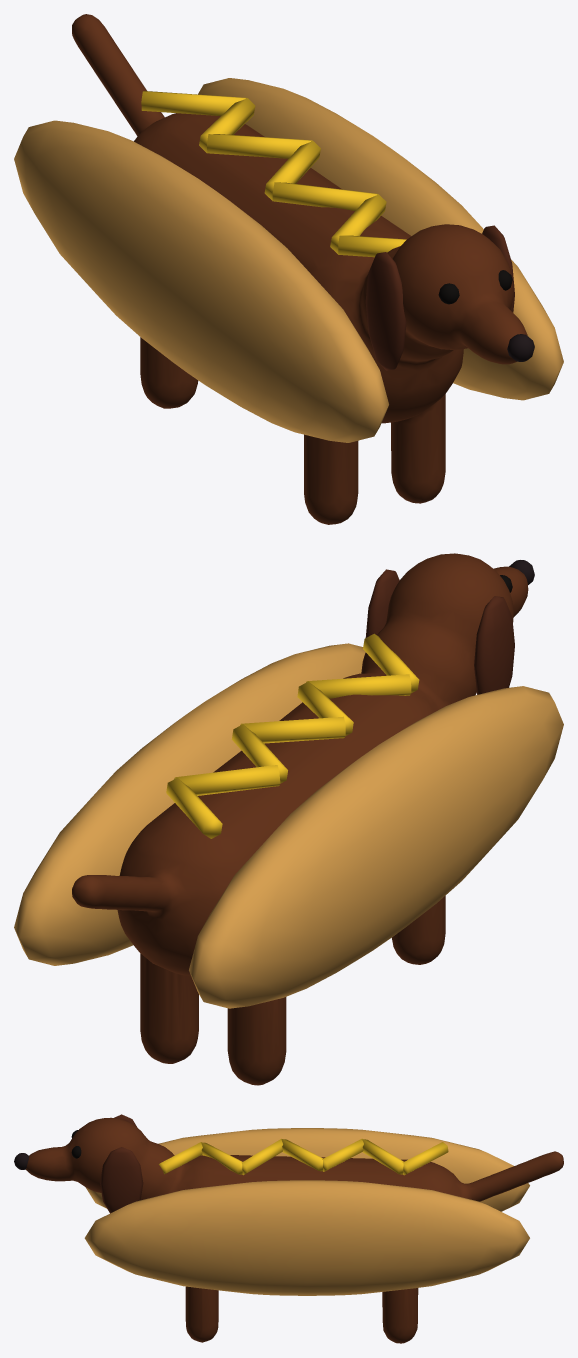
File: mq-dachshund.glb
3 renders of one model, top to bottom at view 1: azimuth 30°, elevation 25°; view 2: azimuth 150°, elevation 25°; view 3: azimuth 270°, elevation 25°, orthographic. The views are drawn at different scales.
Visible parts, largest first — view 1: pet_bun, pet_body, pet_mustard, pet_ears; view 2: pet_bun, pet_body, pet_mustard, pet_ears; view 3: pet_bun, pet_body, pet_mustard, pet_ears.
Boxes of the visible parts, x1,y1,x2,y2 form: pet_bun: [14, 78, 563, 442]; pet_body: [72, 14, 527, 524]; pet_mustard: [141, 91, 406, 257]; pet_ears: [365, 225, 514, 370]; pet_bun: [14, 643, 563, 1008]; pet_body: [72, 553, 528, 1085]; pet_mustard: [166, 633, 419, 838]; pet_ears: [365, 569, 514, 694]; pet_bun: [84, 1128, 529, 1295]; pet_body: [25, 1117, 563, 1343]; pet_mustard: [159, 1138, 448, 1175]; pet_ears: [100, 1114, 143, 1213].
Bounding box in the file's own units: 0.31 × 0.3691 × 0.8885.
